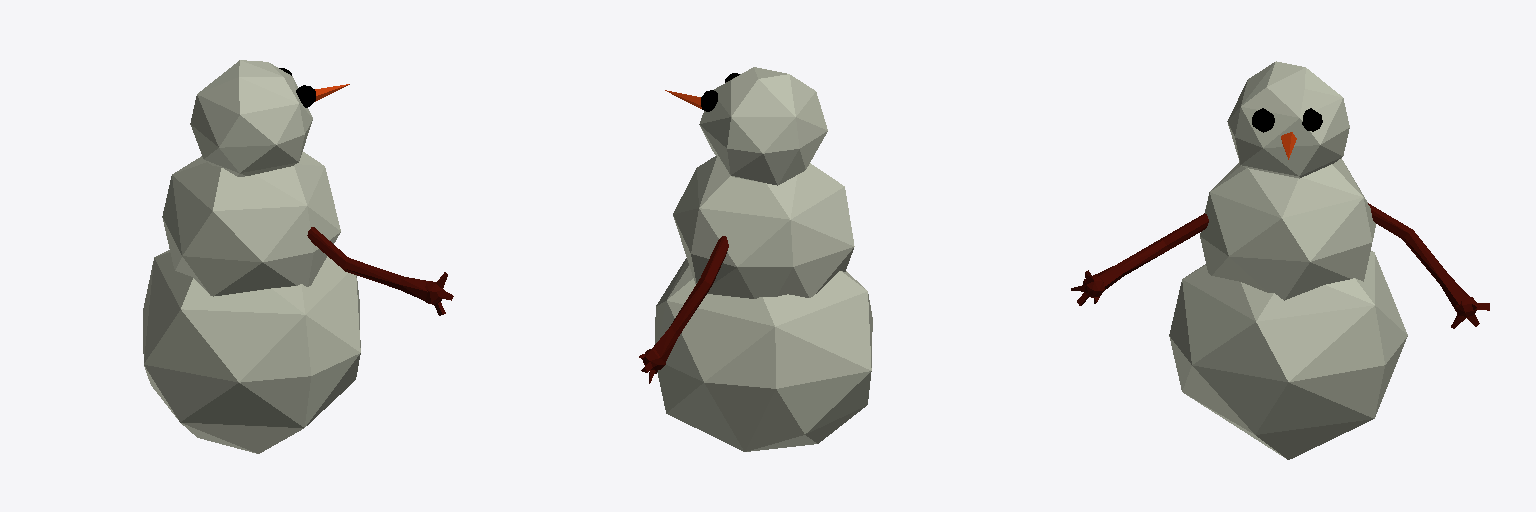
Rendered from bonhommeNeige.obj.
3 views of the same model, side by side, from view 1: azimuth 30°, elevation 25°; view 2: azimuth 150°, elevation 25°; view 3: azimuth 270°, elevation 25° (orthographic).
Parts seen in each view (by area): view 1: base, torse, tete, Cylindre; view 2: base, torse, tete, Cylindre.001; view 3: base, torse, tete, Cylindre.001, Cylindre.
Part boxes in pixels (x1,y1,x2,y2): base: (143, 250, 360, 453); torse: (162, 152, 340, 296); tete: (190, 60, 312, 176); Cylindre: (307, 227, 453, 315); base: (655, 258, 872, 451); torse: (673, 156, 854, 298); tete: (699, 67, 827, 185); Cylindre.001: (639, 236, 728, 383); base: (1169, 251, 1407, 459); torse: (1200, 158, 1375, 300); tete: (1227, 61, 1349, 178); Cylindre.001: (1368, 203, 1489, 328); Cylindre: (1071, 213, 1208, 305).
Size of the model in its own units: 2.09 by 3.46 by 3.52.